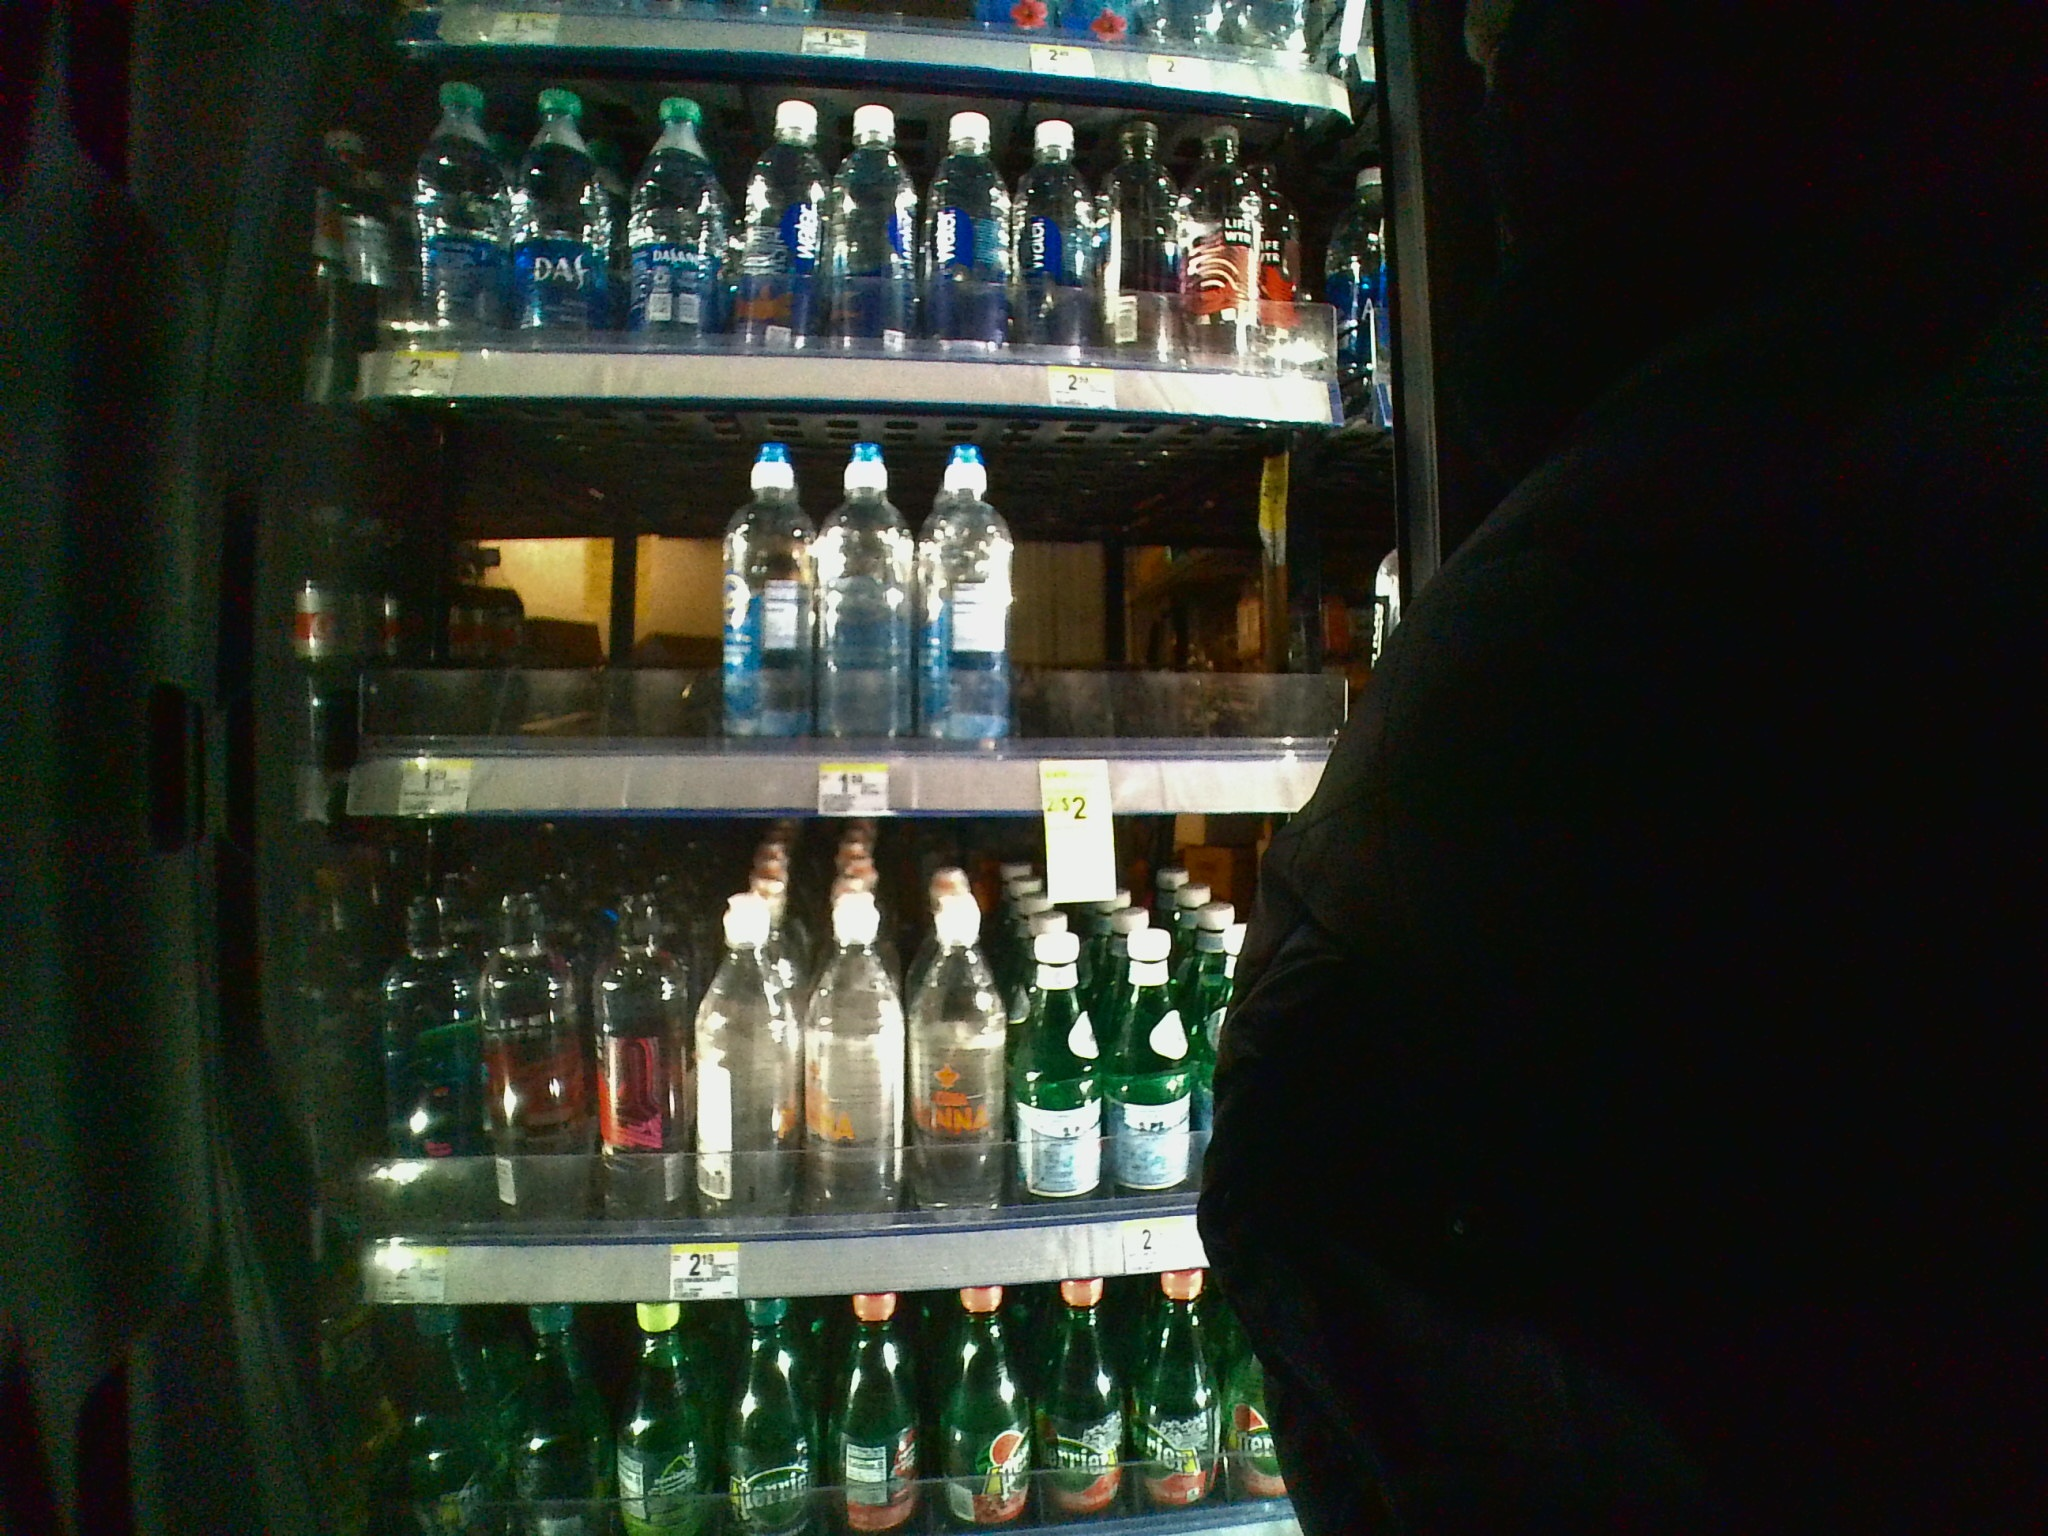shelf: (350, 394, 1384, 810)
